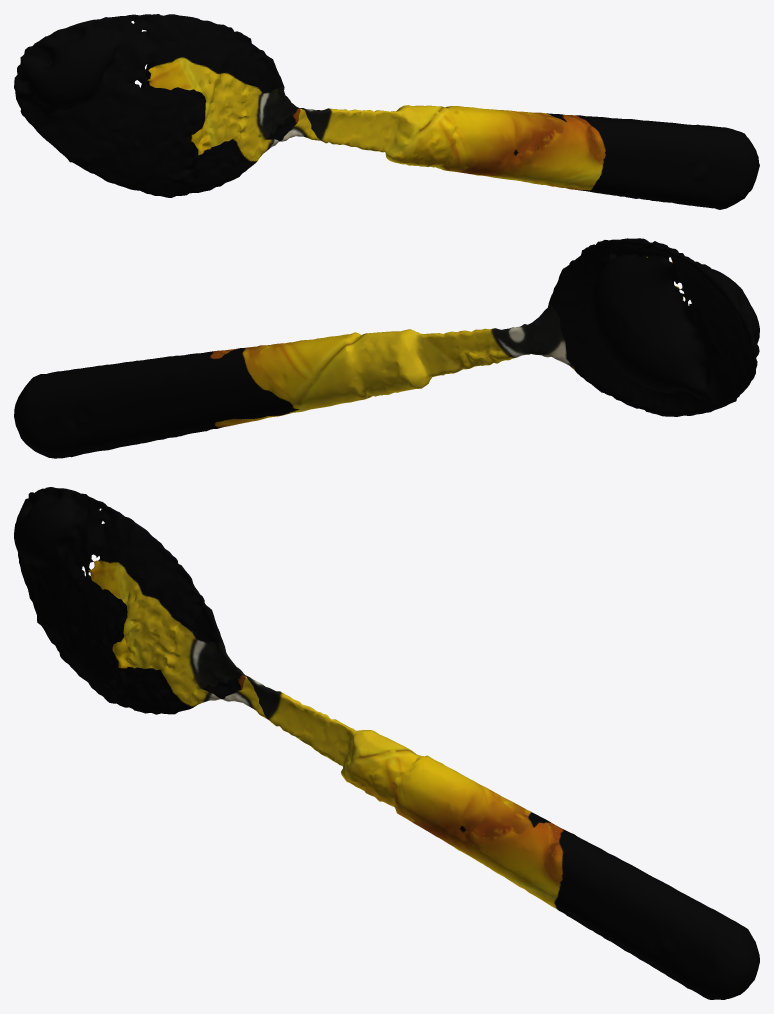
3 renders of one model, top to bottom at view 1: azimuth 30°, elevation 25°; view 2: azimuth 150°, elevation 25°; view 3: azimuth 330°, elevation 25°, orthographic. The views are drawn at different scales.
Bounding box in the file's own units: 0.186 × 0.0829 × 0.0209.
